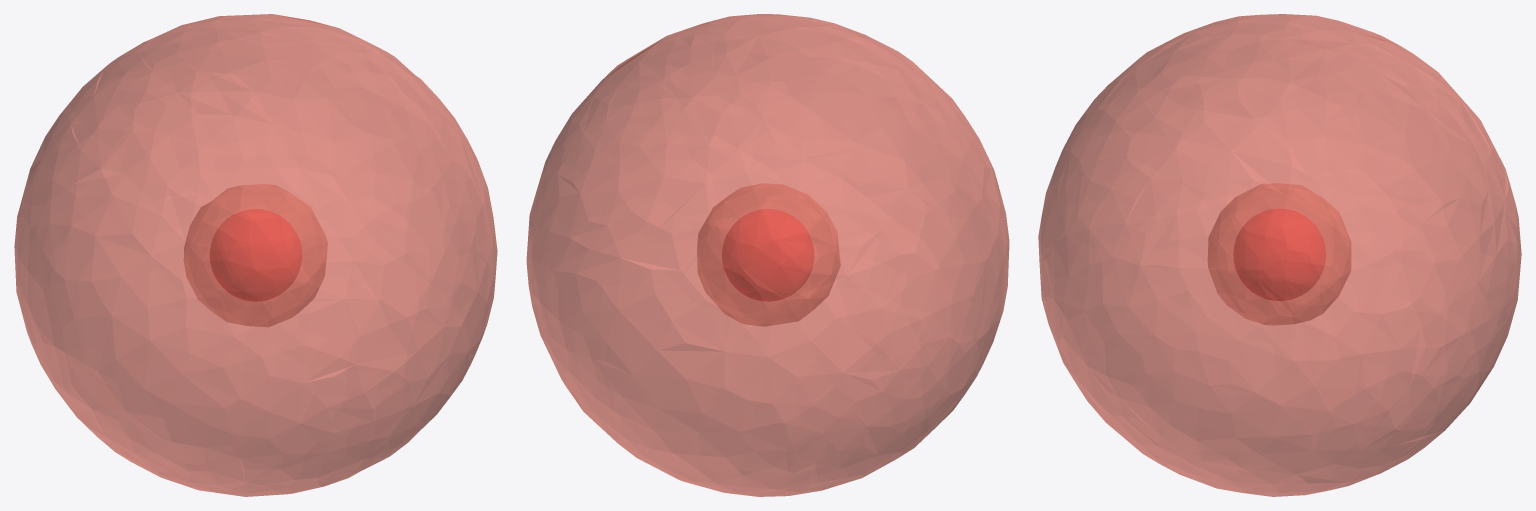
File: orbital.glb
3 views of the same model, side by side, from view 1: azimuth 30°, elevation 25°; view 2: azimuth 150°, elevation 25°; view 3: azimuth 270°, elevation 25° (orthographic).
Visible parts, largest first — view 1: H_n1_s_ml0_node, H_nucleus_node; view 2: H_n1_s_ml0_node, H_nucleus_node; view 3: H_n1_s_ml0_node, H_nucleus_node.
Part boxes in pixels (x1,y1,x2,y2): H_n1_s_ml0_node: (14, 14, 497, 496); H_nucleus_node: (210, 209, 301, 301); H_n1_s_ml0_node: (526, 14, 1009, 496); H_nucleus_node: (722, 209, 813, 301); H_n1_s_ml0_node: (1038, 14, 1521, 496); H_nucleus_node: (1233, 209, 1325, 300).
Size of the model in its own units: 0.5731 by 0.5742 by 0.5733.
